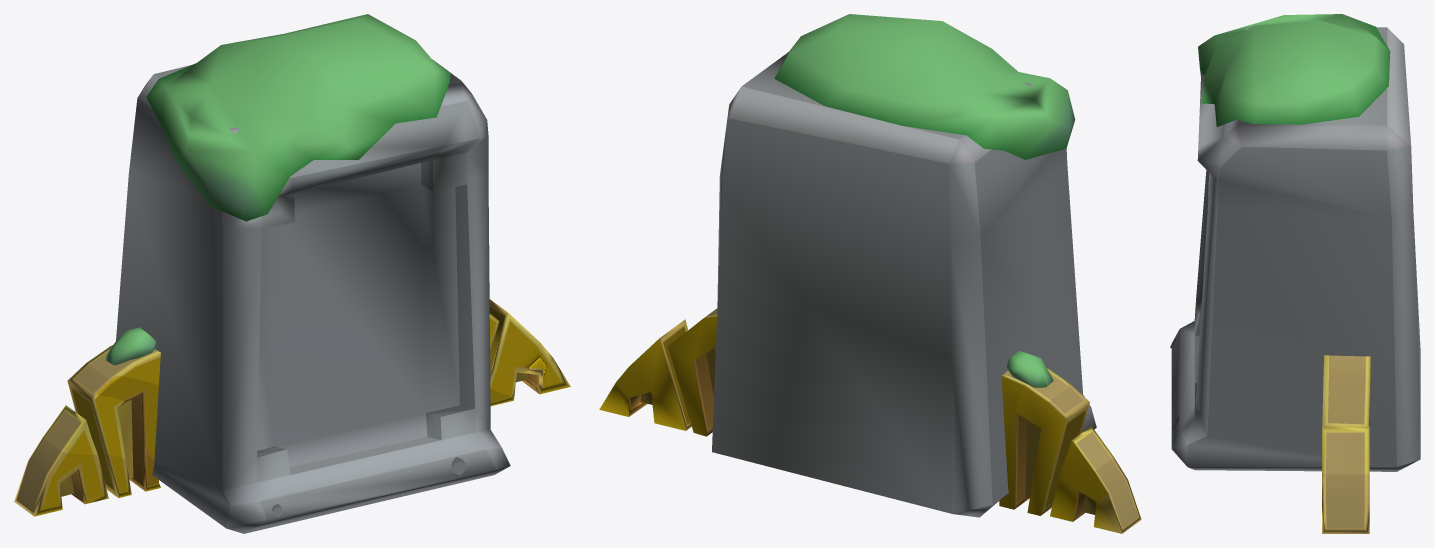
The picture shows the model from 3 angles, left to right: view 1: azimuth 30°, elevation 25°; view 2: azimuth 150°, elevation 25°; view 3: azimuth 270°, elevation 25°; orthographic projection. The views are drawn at different scales.
Parts seen in each view (by area): view 1: base2; view 2: base2; view 3: base2.
Part boxes in pixels (bbox=[...]): base2: bbox=[14, 14, 570, 533]; base2: bbox=[599, 14, 1141, 533]; base2: bbox=[1170, 14, 1420, 533].
Bounding box in the file's own units: 1.88 × 1.43 × 0.8489.
